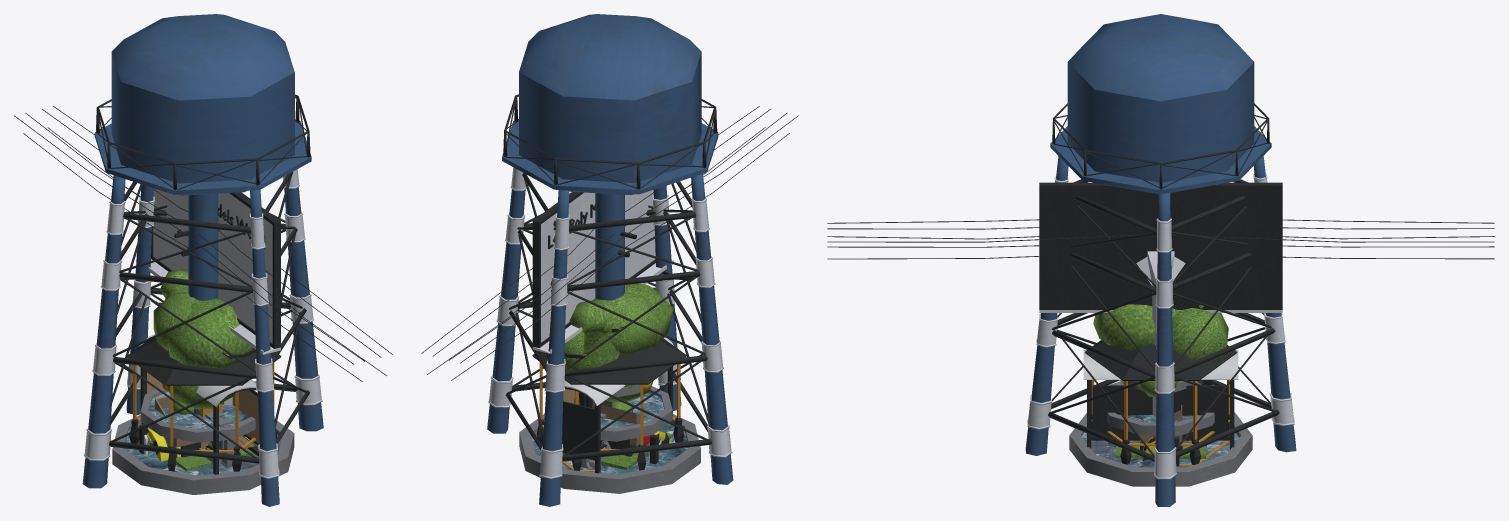
The model's file is props.glb.
The picture shows the model from 3 angles, left to right: view 1: azimuth 30°, elevation 25°; view 2: azimuth 150°, elevation 25°; view 3: azimuth 270°, elevation 25°; orthographic projection.
Parts seen in each view (by area): view 1: item_39_WaterSource_39, item_11_Billboard_11, item_36_Fountain_36, item_29_Tree-1_29, item_28_Gazebo_28, item_10_Bus_station_10, item_38_TireBarq_38, item_24_Tree-2_24, item_19_ShopShadow_19, item_41_Grass.001_41; view 2: item_39_WaterSource_39, item_11_Billboard_11, item_36_Fountain_36, item_29_Tree-1_29, item_28_Gazebo_28, item_10_Bus_station_10, item_38_TireBarq_38, item_24_Tree-2_24, item_26_FruitShop_26, item_41_Grass.001_41; view 3: item_39_WaterSource_39, item_11_Billboard_11, item_36_Fountain_36, item_10_Bus_station_10, item_29_Tree-1_29, item_38_TireBarq_38, item_28_Gazebo_28.
Boxes of the visible parts, x1,y1,x2,y2 form: item_39_WaterSource_39: (82, 14, 323, 506); item_11_Billboard_11: (123, 188, 280, 405); item_36_Fountain_36: (112, 387, 294, 494); item_29_Tree-1_29: (160, 269, 252, 409); item_28_Gazebo_28: (126, 337, 281, 471); item_10_Bus_station_10: (139, 334, 259, 474); item_38_TireBarq_38: (14, 106, 392, 381); item_24_Tree-2_24: (153, 291, 202, 414); item_19_ShopShadow_19: (139, 424, 249, 461); item_41_Grass.001_41: (148, 437, 258, 471); item_39_WaterSource_39: (487, 14, 733, 506); item_11_Billboard_11: (532, 190, 692, 359); item_36_Fountain_36: (519, 384, 700, 493); item_29_Tree-1_29: (564, 283, 673, 405); item_28_Gazebo_28: (532, 338, 686, 471); item_10_Bus_station_10: (545, 337, 673, 473); item_38_TireBarq_38: (421, 106, 798, 380); item_24_Tree-2_24: (594, 291, 657, 412); item_26_FruitShop_26: (574, 398, 647, 457); item_41_Grass.001_41: (562, 431, 672, 469); item_39_WaterSource_39: (1025, 14, 1296, 506); item_11_Billboard_11: (1039, 182, 1282, 416); item_36_Fountain_36: (1069, 381, 1252, 486); item_10_Bus_station_10: (1083, 350, 1238, 449); item_29_Tree-1_29: (1093, 304, 1228, 383); item_38_TireBarq_38: (827, 219, 1494, 259); item_28_Gazebo_28: (1085, 340, 1237, 465).
Bounding box in the file's own units: 6 × 10.15 × 14.81.
Materials: 2 (1 with a texture image).
